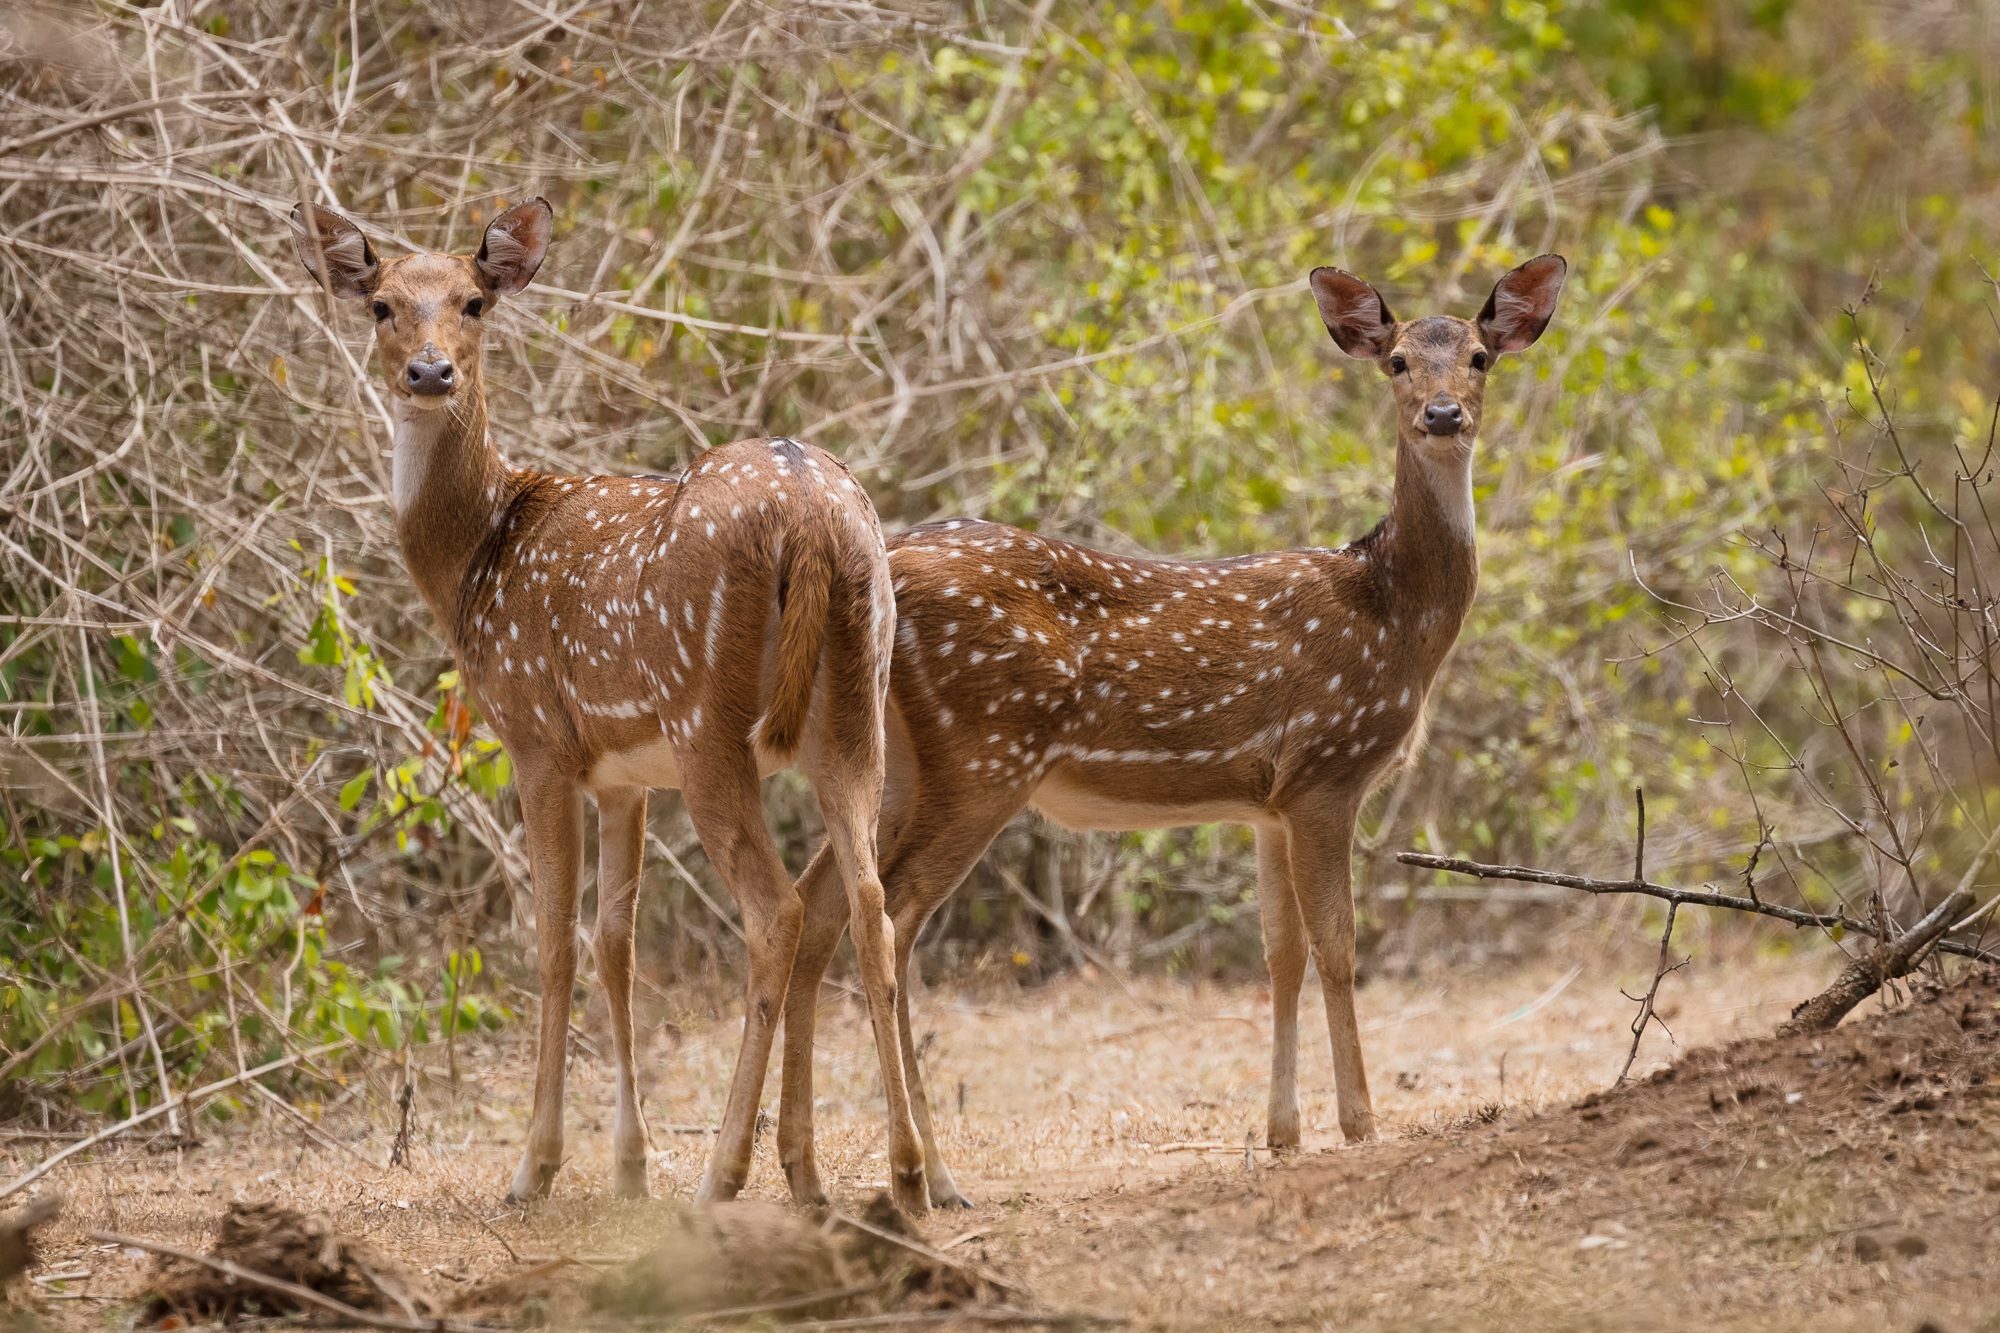Deer: (735, 242, 1570, 1192), (296, 199, 940, 1262)
